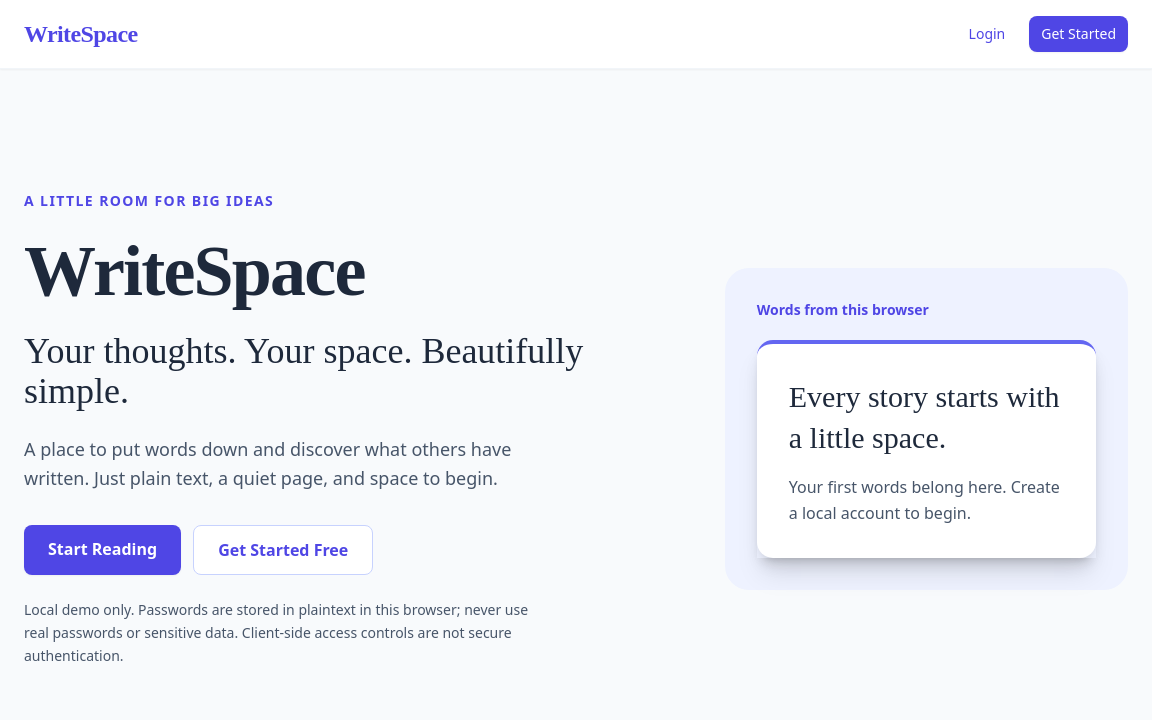
public landing and App wiring › guest CTA Start Reading navigates to /login
This screenshot has width=1152, height=720.
Click the link "Start Reading". click: (103, 550)
box: [24,525,181,575]
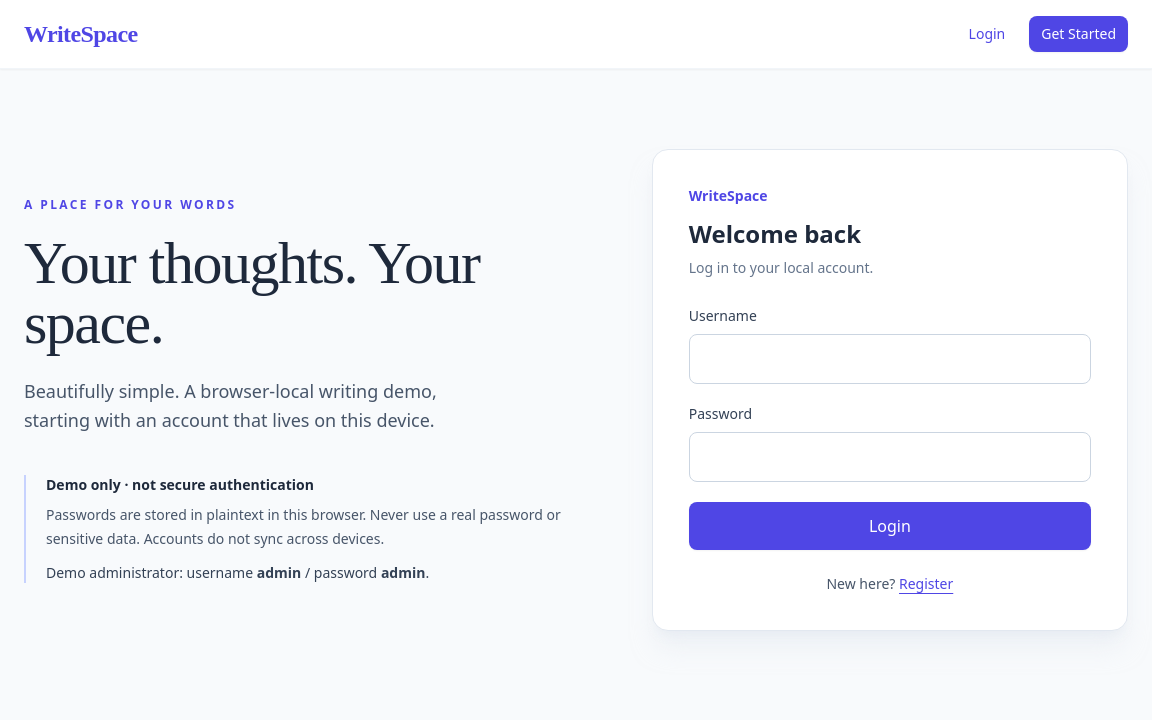
Expected: the field labelled "Username" is shown, [689,334,1091,384]
